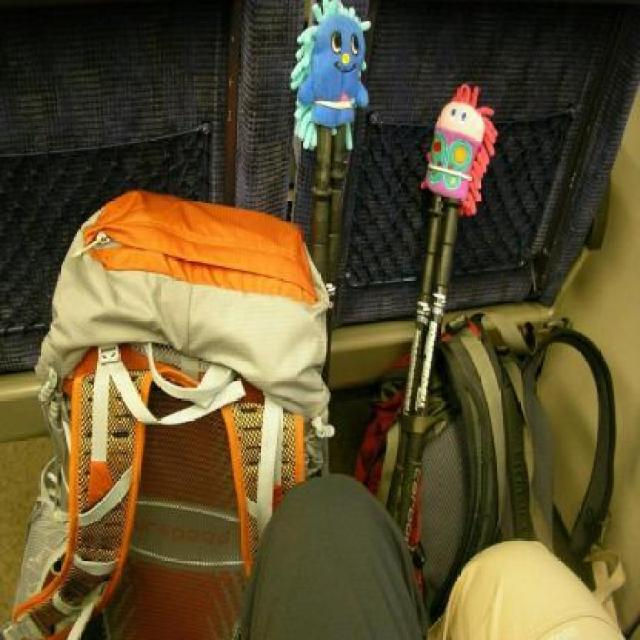backpack: (32, 183, 336, 640), (362, 306, 624, 586)
